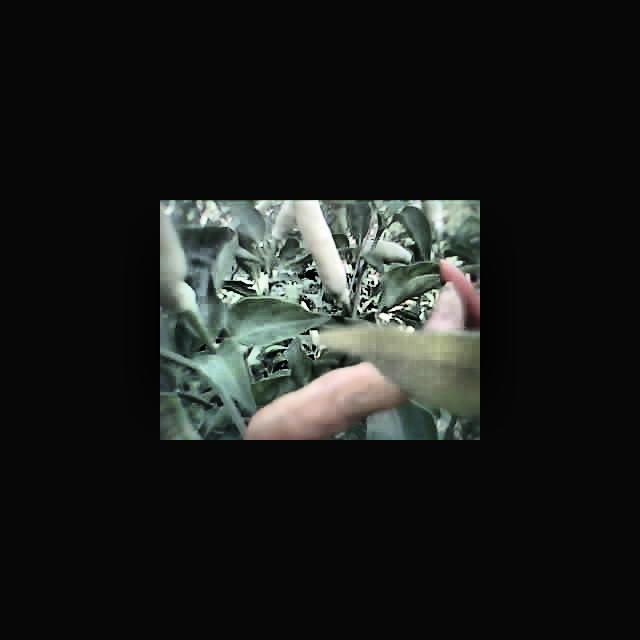Cabai: (251, 366, 380, 440)
